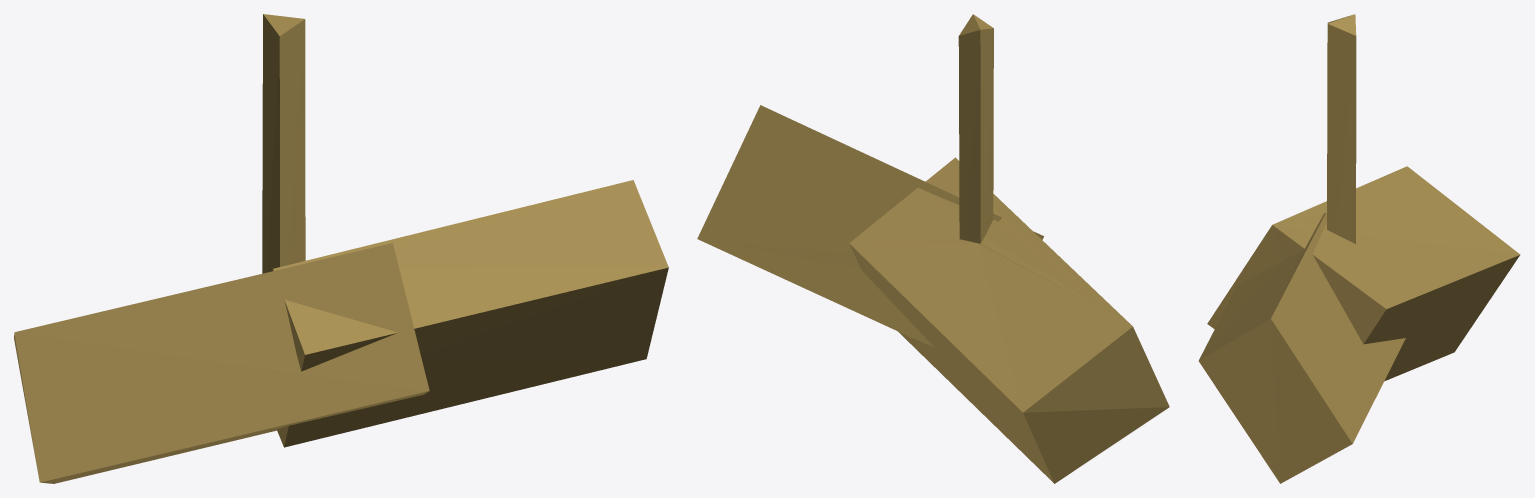
3 views of the same model, side by side, from view 1: azimuth 30°, elevation 25°; view 2: azimuth 150°, elevation 25°; view 3: azimuth 270°, elevation 25° (orthographic). The views are drawn at different scales.
Parts seen in each view (by area): view 1: 520_Cube.2099; view 2: 520_Cube.2099; view 3: 520_Cube.2099.
Boxes of the visible parts, <box> form: 520_Cube.2099: <box>14,14,668,483</box>; 520_Cube.2099: <box>697,14,1169,483</box>; 520_Cube.2099: <box>1198,14,1520,483</box>.
Size of the model in its own units: 20.56 by 16.28 by 11.86.
